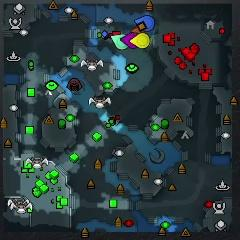p1: (135, 15, 154, 31)
p2: (110, 34, 128, 49)
p3: (120, 31, 139, 48)
p4: (131, 33, 150, 47)
